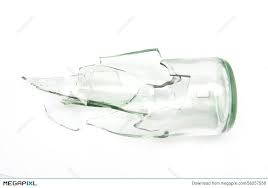glass: (13, 45, 240, 146)
